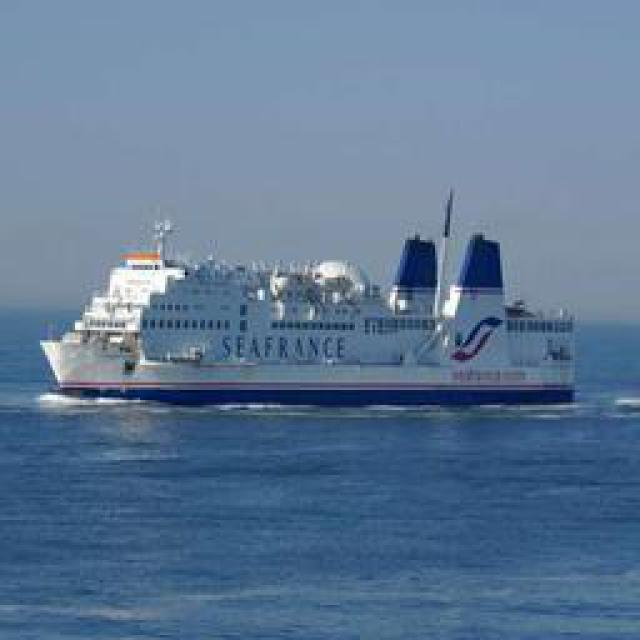Ship: (28, 205, 596, 413)
